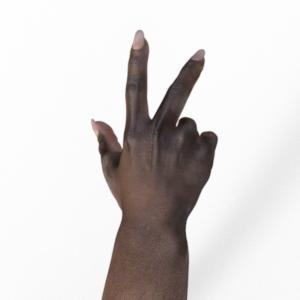scissors: (91, 30, 217, 300)
